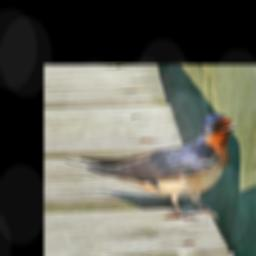Swallow: (82, 113, 239, 222)
